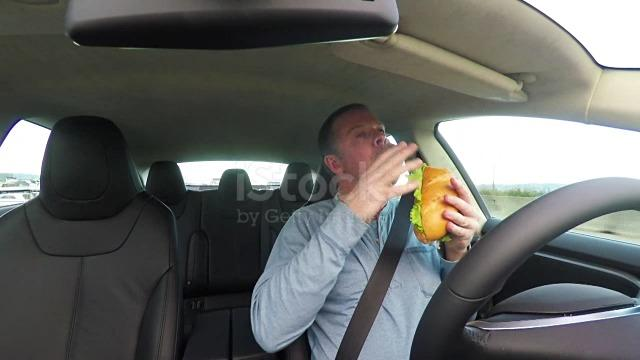Eating: (305, 92, 491, 260)
